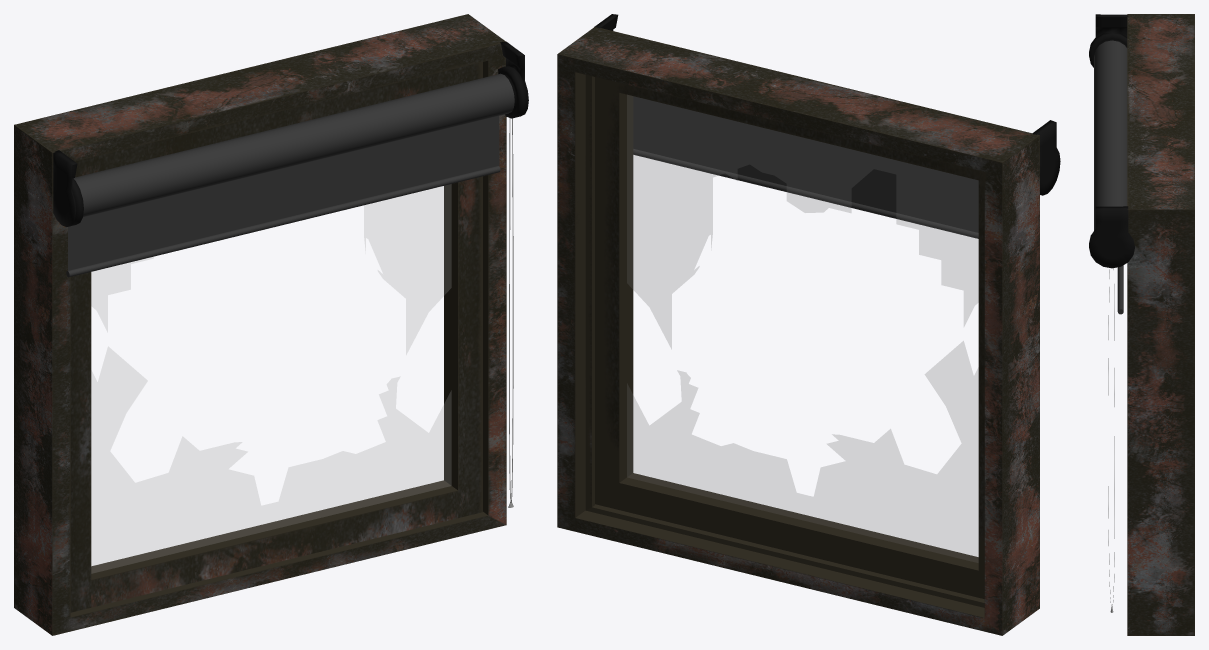
Rendered from window_broken.glb.
The picture shows the model from 3 angles, left to right: view 1: azimuth 30°, elevation 25°; view 2: azimuth 150°, elevation 25°; view 3: azimuth 270°, elevation 25°; orthographic projection. The views are drawn at different scales.
Parts seen in each view (by area): view 1: up, f, Panel, Roller, Side.L, Side.R, String; view 2: up, f, Panel, Side.L; view 3: f, Roller, Side.R, Side.L, String, Panel.
Part boxes in pixels (x1,y1,x2,y2): up: (70,62,482,612); f: (14,14,506,635); Panel: (66,116,500,277); Roller: (73,73,514,217); Side.L: (53,150,83,226); Side.R: (498,41,528,118); String: (509,118,513,501); up: (595,77,984,598); f: (557,26,1039,635); Panel: (633,96,978,238); Side.L: (1032,120,1060,195); f: (1127,14,1194,635); Roller: (1094,40,1127,230); Side.R: (1089,206,1134,268); Side.L: (1089,14,1128,67); String: (1108,268,1114,606); Panel: (1117,265,1123,314).
Size of the model in its own units: 0.9009 by 0.9158 by 0.206.
6 materials, 2 textured.
